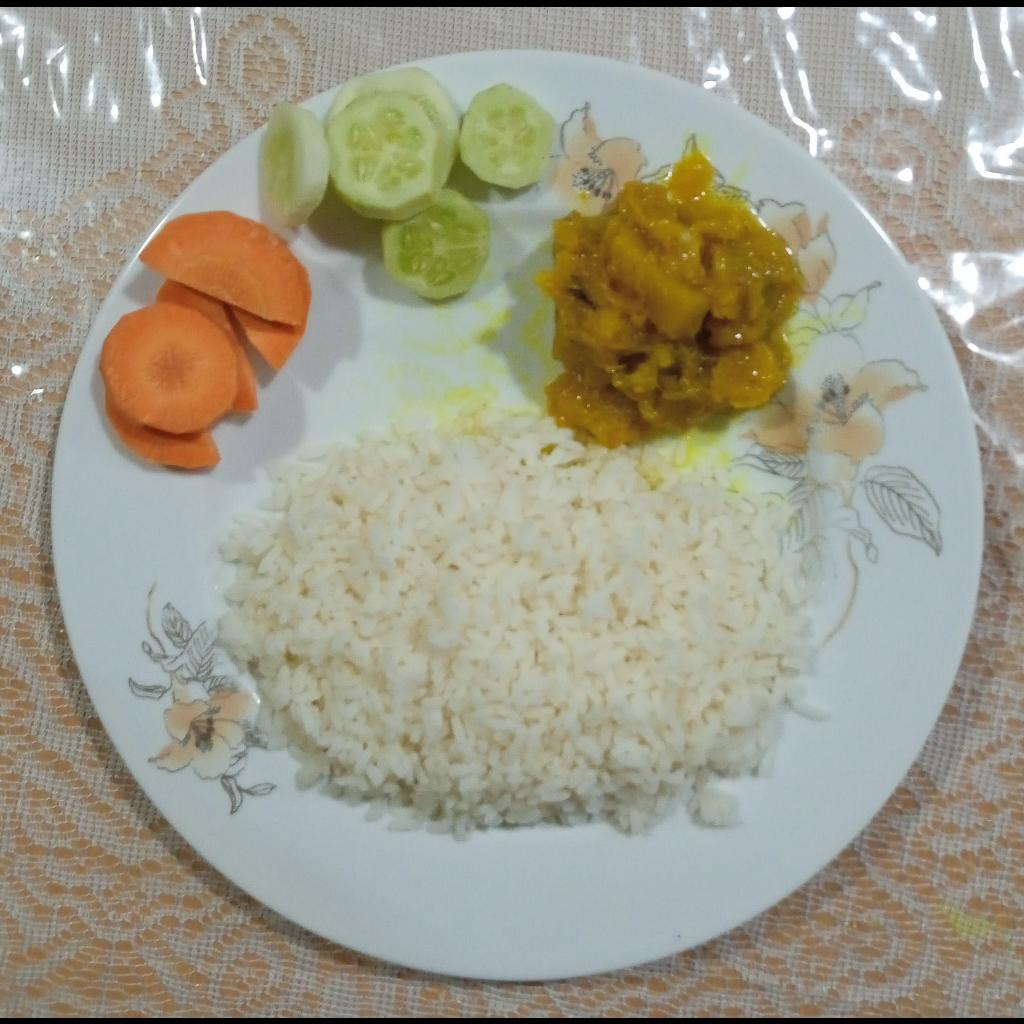carrot: (98, 210, 313, 468)
cucumber: (261, 66, 561, 302)
kumra-vaji: (541, 149, 804, 448)
rice: (219, 406, 827, 837)
